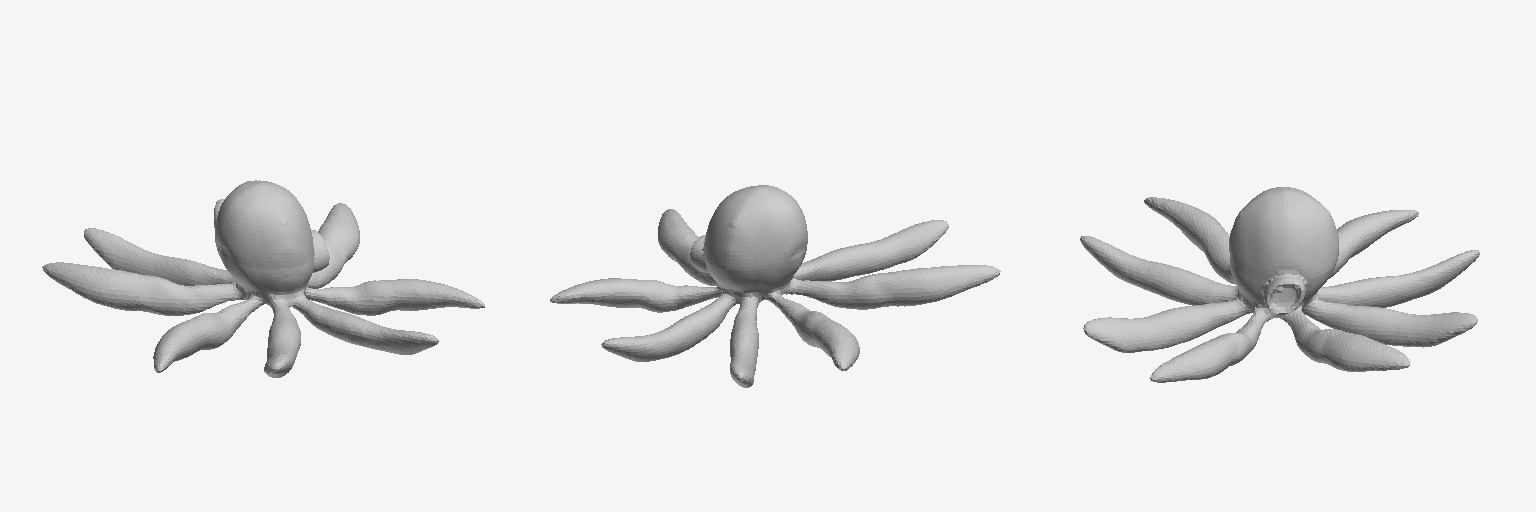
Rendered from octopus_aug_5.obj.
The picture shows the model from 3 angles: view 1: azimuth 30°, elevation 25°; view 2: azimuth 150°, elevation 25°; view 3: azimuth 270°, elevation 25°; orthographic projection.
Size of the model in its own units: 96.59 by 37.96 by 101.